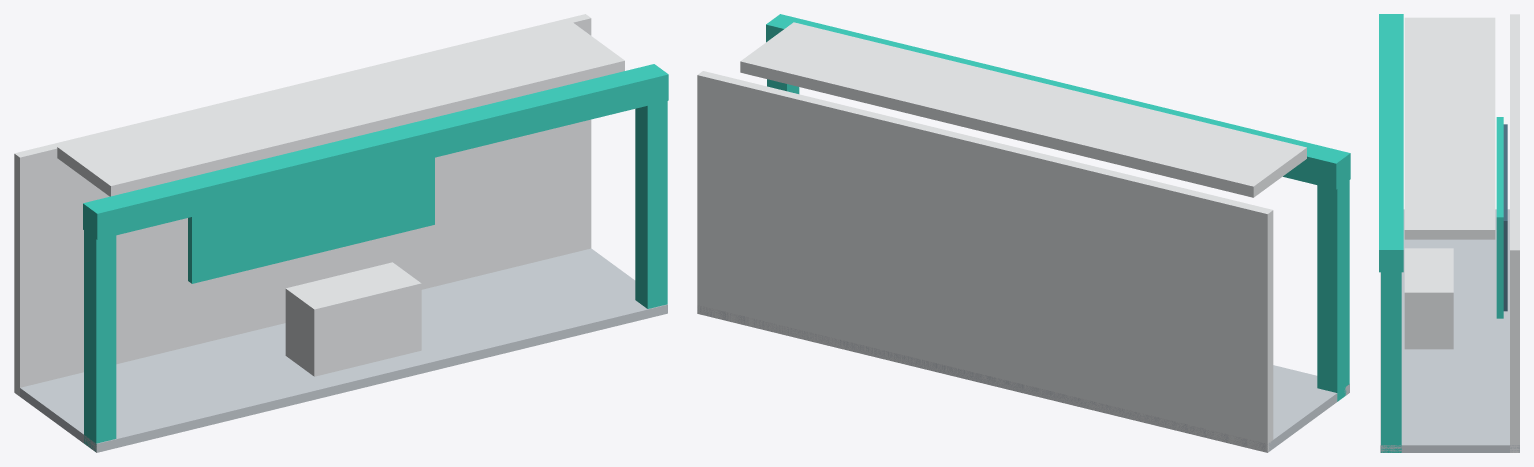
3 renders of one model, left to right at view 1: azimuth 30°, elevation 25°; view 2: azimuth 150°, elevation 25°; view 3: azimuth 270°, elevation 25°, orthographic. The views are drawn at different scales.
Parts seen in each view (by area): view 1: Exhibition Booth Concept; view 2: Exhibition Booth Concept; view 3: Exhibition Booth Concept.
Part boxes in pixels (left/top/right/bottom): Exhibition Booth Concept: left=14, top=14, right=668, bottom=452; Exhibition Booth Concept: left=697, top=14, right=1350, bottom=452; Exhibition Booth Concept: left=1379, top=14, right=1519, bottom=452.
Bounding box in the file's own units: 8 × 3.34 × 2.01.
